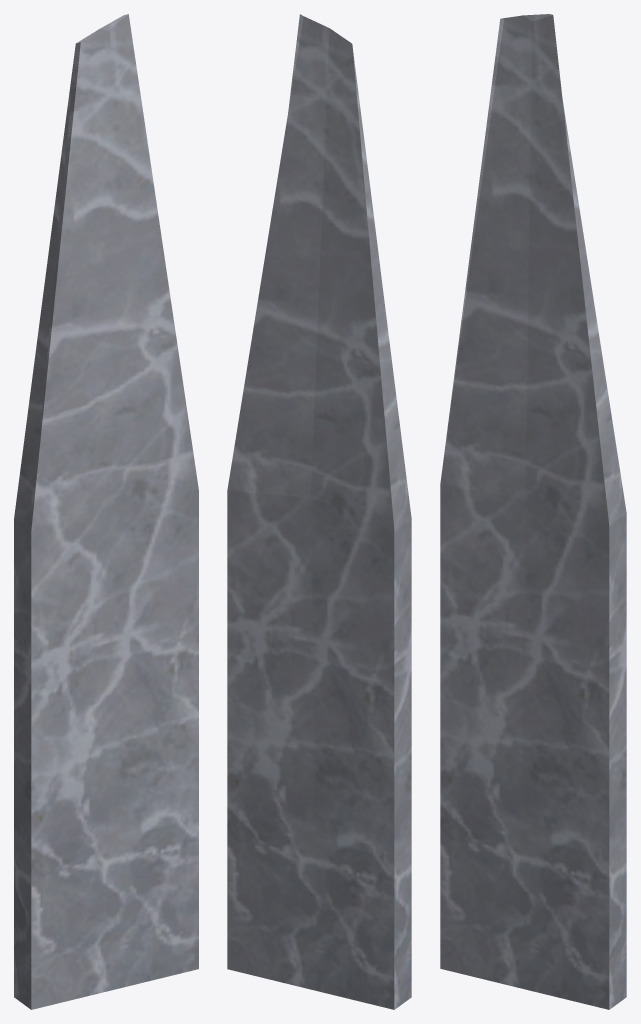
Rendered from Sword Aud Blade.obj.
3 renders of one model, left to right at view 1: azimuth 30°, elevation 25°; view 2: azimuth 150°, elevation 25°; view 3: azimuth 330°, elevation 25°, orthographic.
Parts seen in each view (by area): view 1: Swordblade1; view 2: Swordblade1; view 3: Swordblade1.
Part boxes in pixels (x1,y1,x2,y2): Swordblade1: (14, 14, 198, 1009); Swordblade1: (227, 14, 411, 1009); Swordblade1: (440, 14, 626, 1009).
Size of the model in its own units: 0.476 by 2.62 by 0.085.
